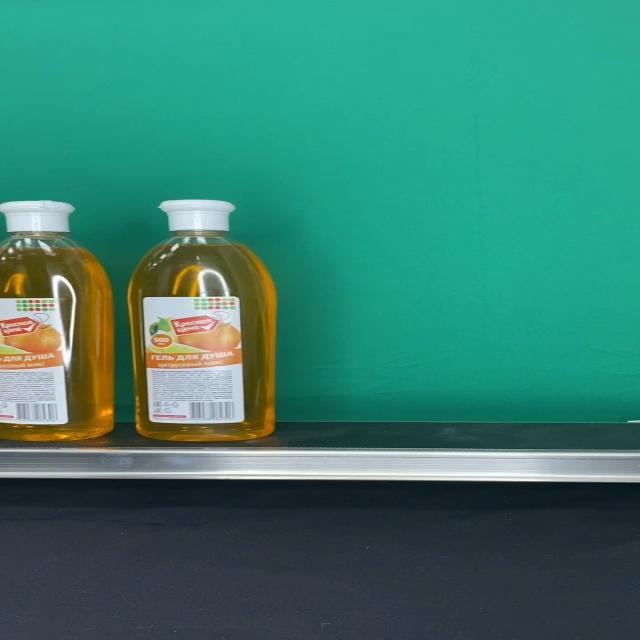Bottle: (126, 199, 277, 441), (0, 200, 114, 440)
Cap: (157, 200, 235, 232), (0, 200, 75, 233)
